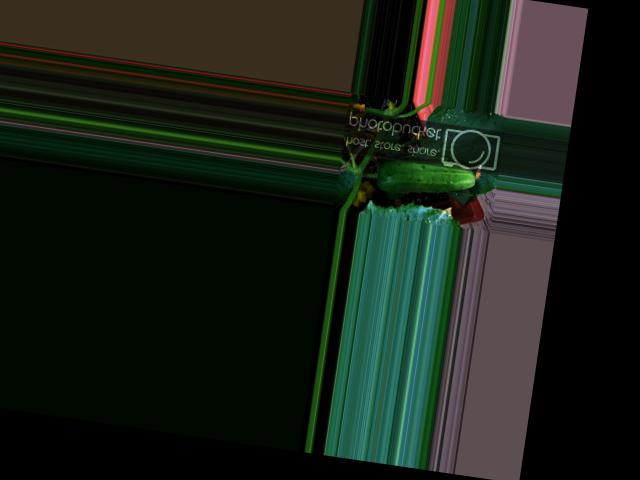cucumber: (376, 151, 479, 204)
